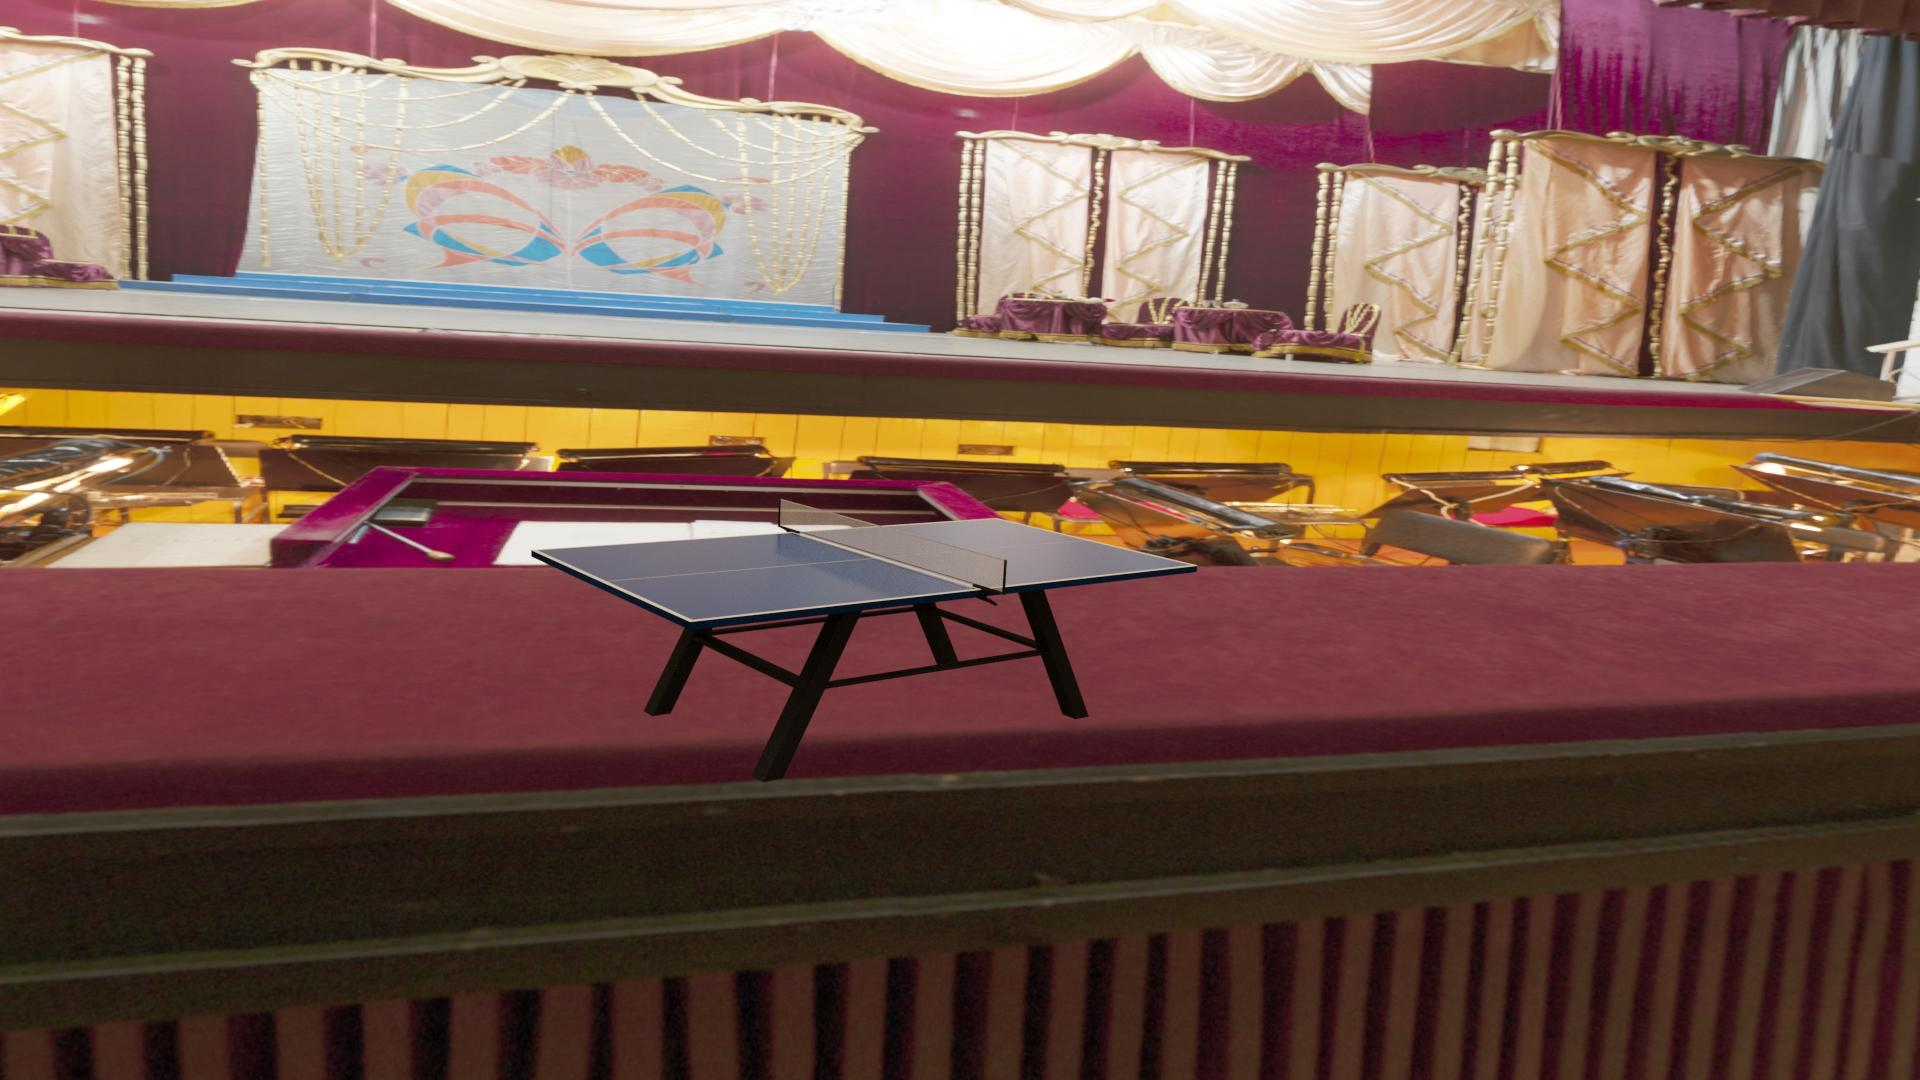table: (537, 520, 1192, 620)
